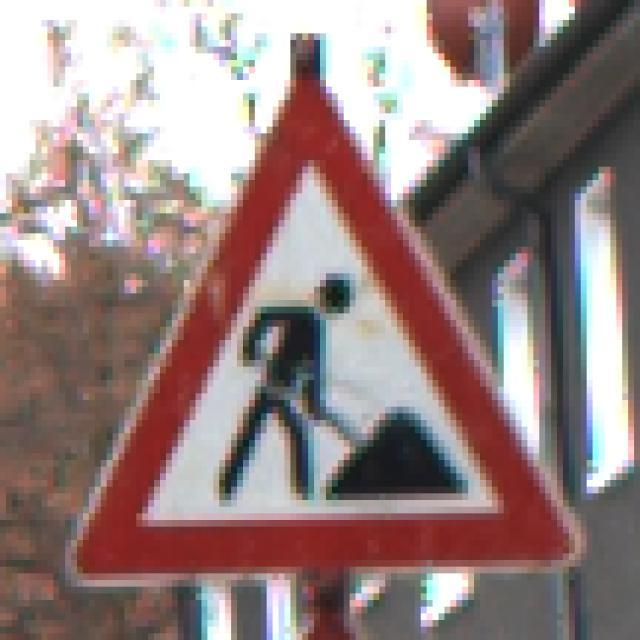men at work: (71, 70, 585, 581)
